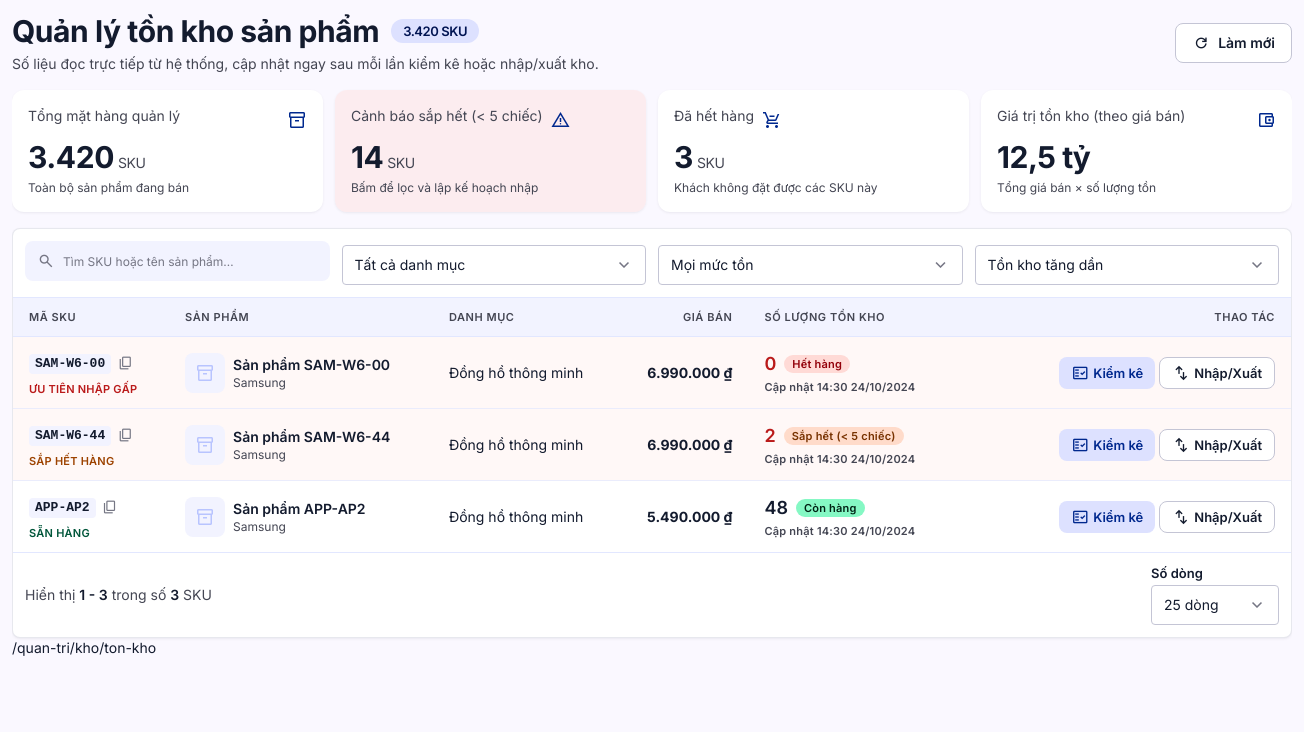
it: InventoryPage › kiểm kê tại dòng: validate; Lưu gửi PATCH { stock }
Click the button with aria-label "Kiểm kê SAM-W6-44" at [1107, 444], box [1059,428,1155,460]
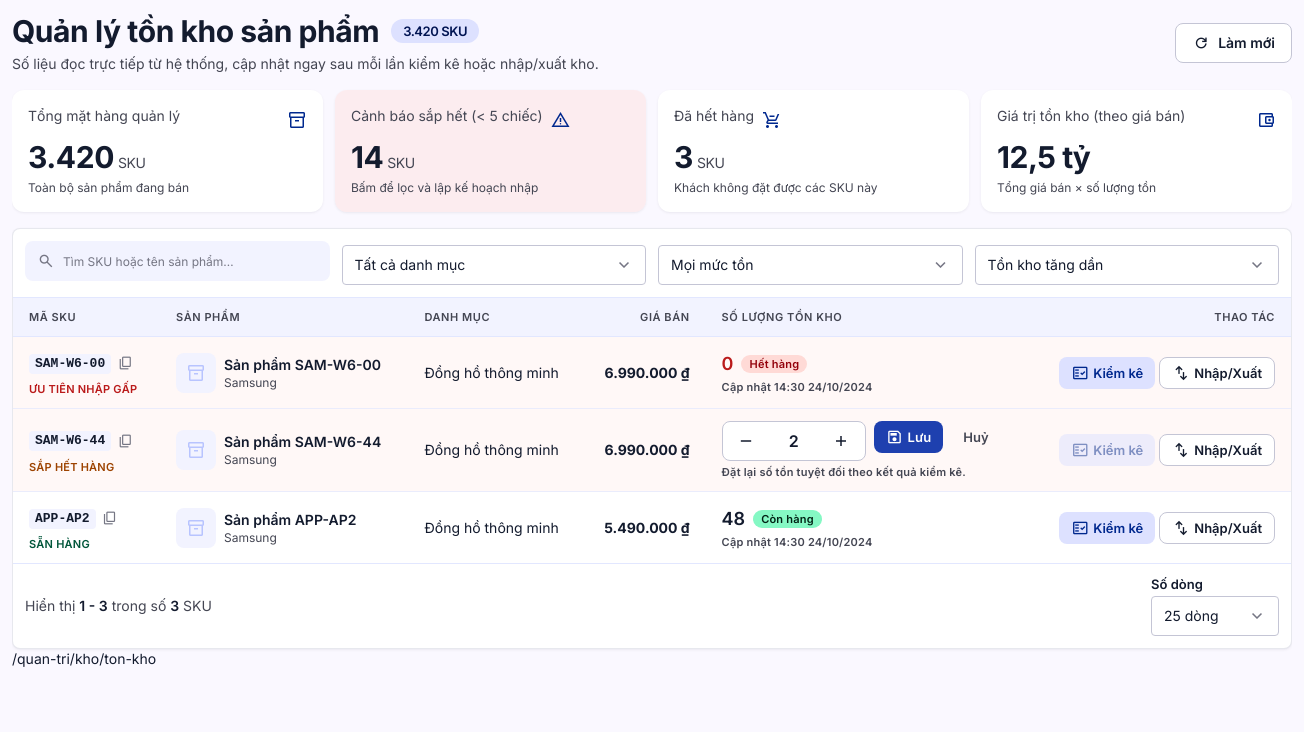
Replace the text in the field named "Số tồn thực tế SAM-W6-44" with "abc" at [794, 441], box [770,426,818,456]
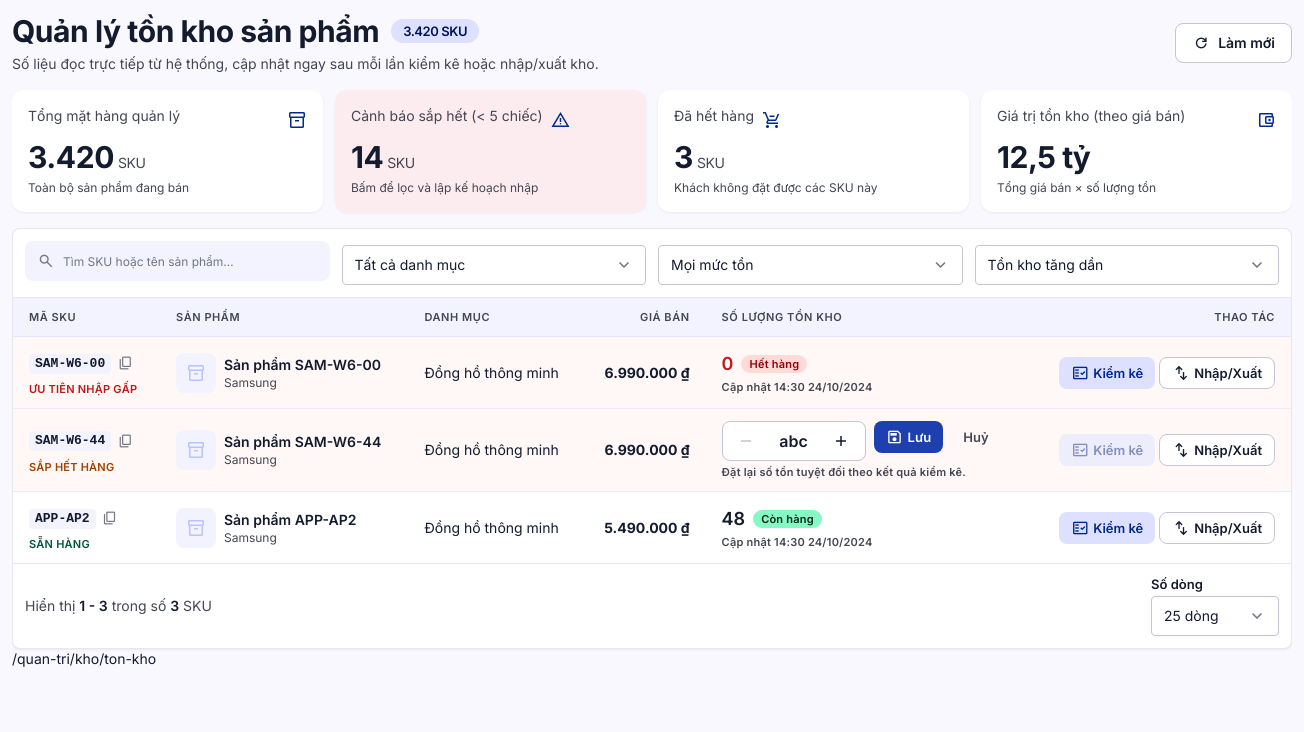
Click the button "Lưu" at [908, 437], box [874,421,943,453]
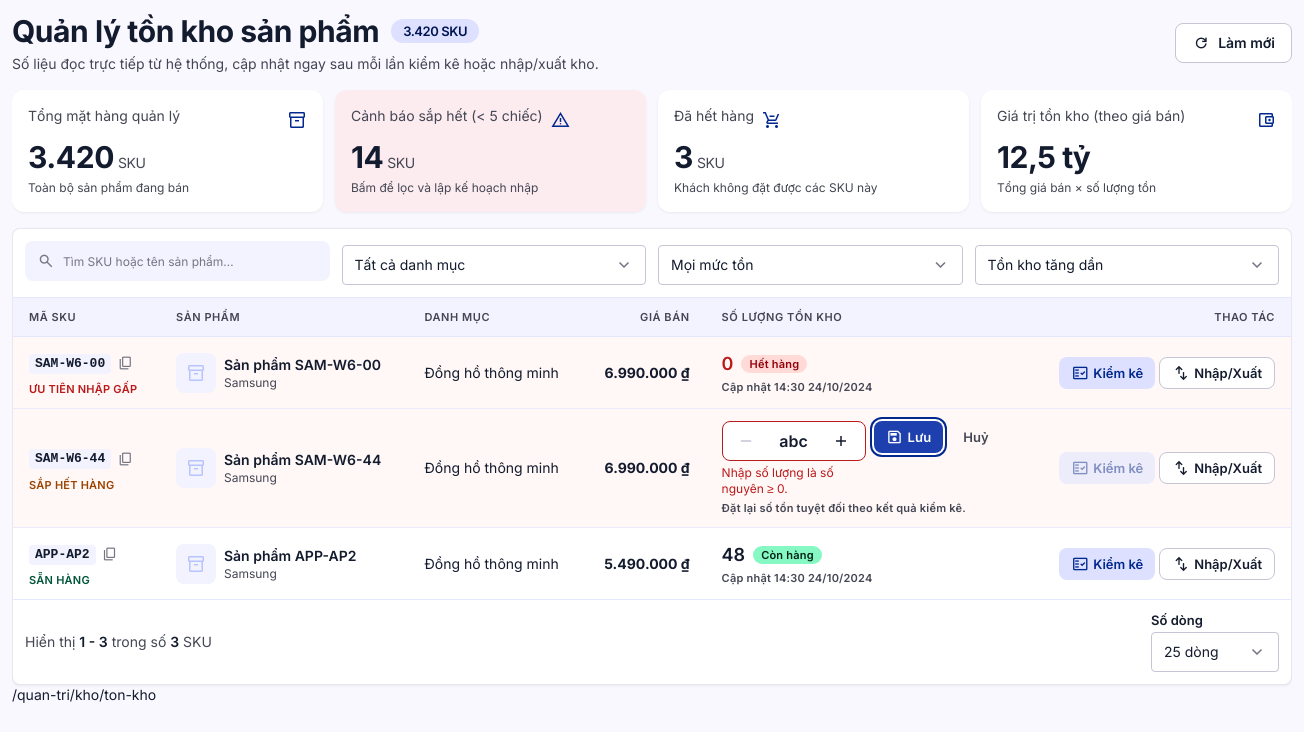
Now the text "Nhập số lượng là số nguyên ≥ 0." is shown, box [722,465,834,496]
Replace the text in the field named "Số tồn thực tế SAM-W6-44" with "20" at [794, 441], box [770,426,818,456]
Then press Enter
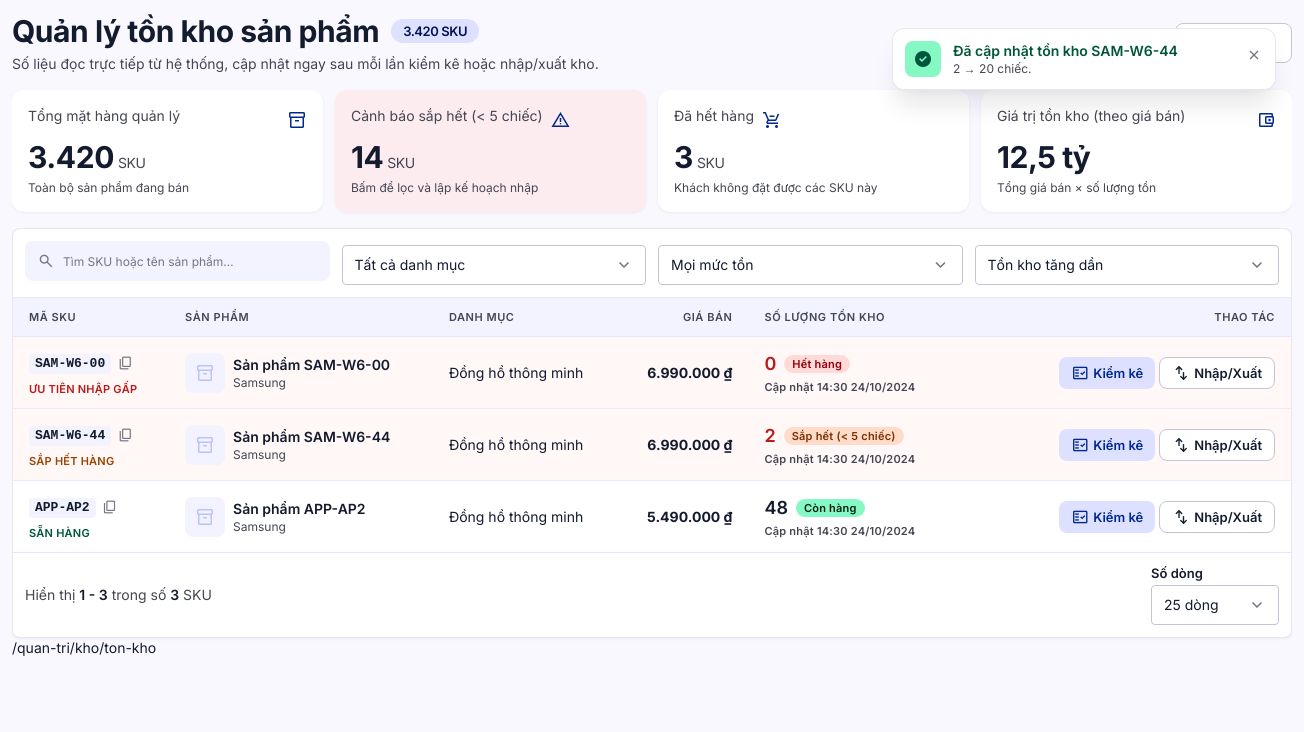
Now the text "Đã cập nhật tồn kho SAM-W6-44" is shown, box [953,42,1178,59]
Now the text "2 → 20 chiếc." is shown, box [953,61,1032,76]
Now the field is gone
